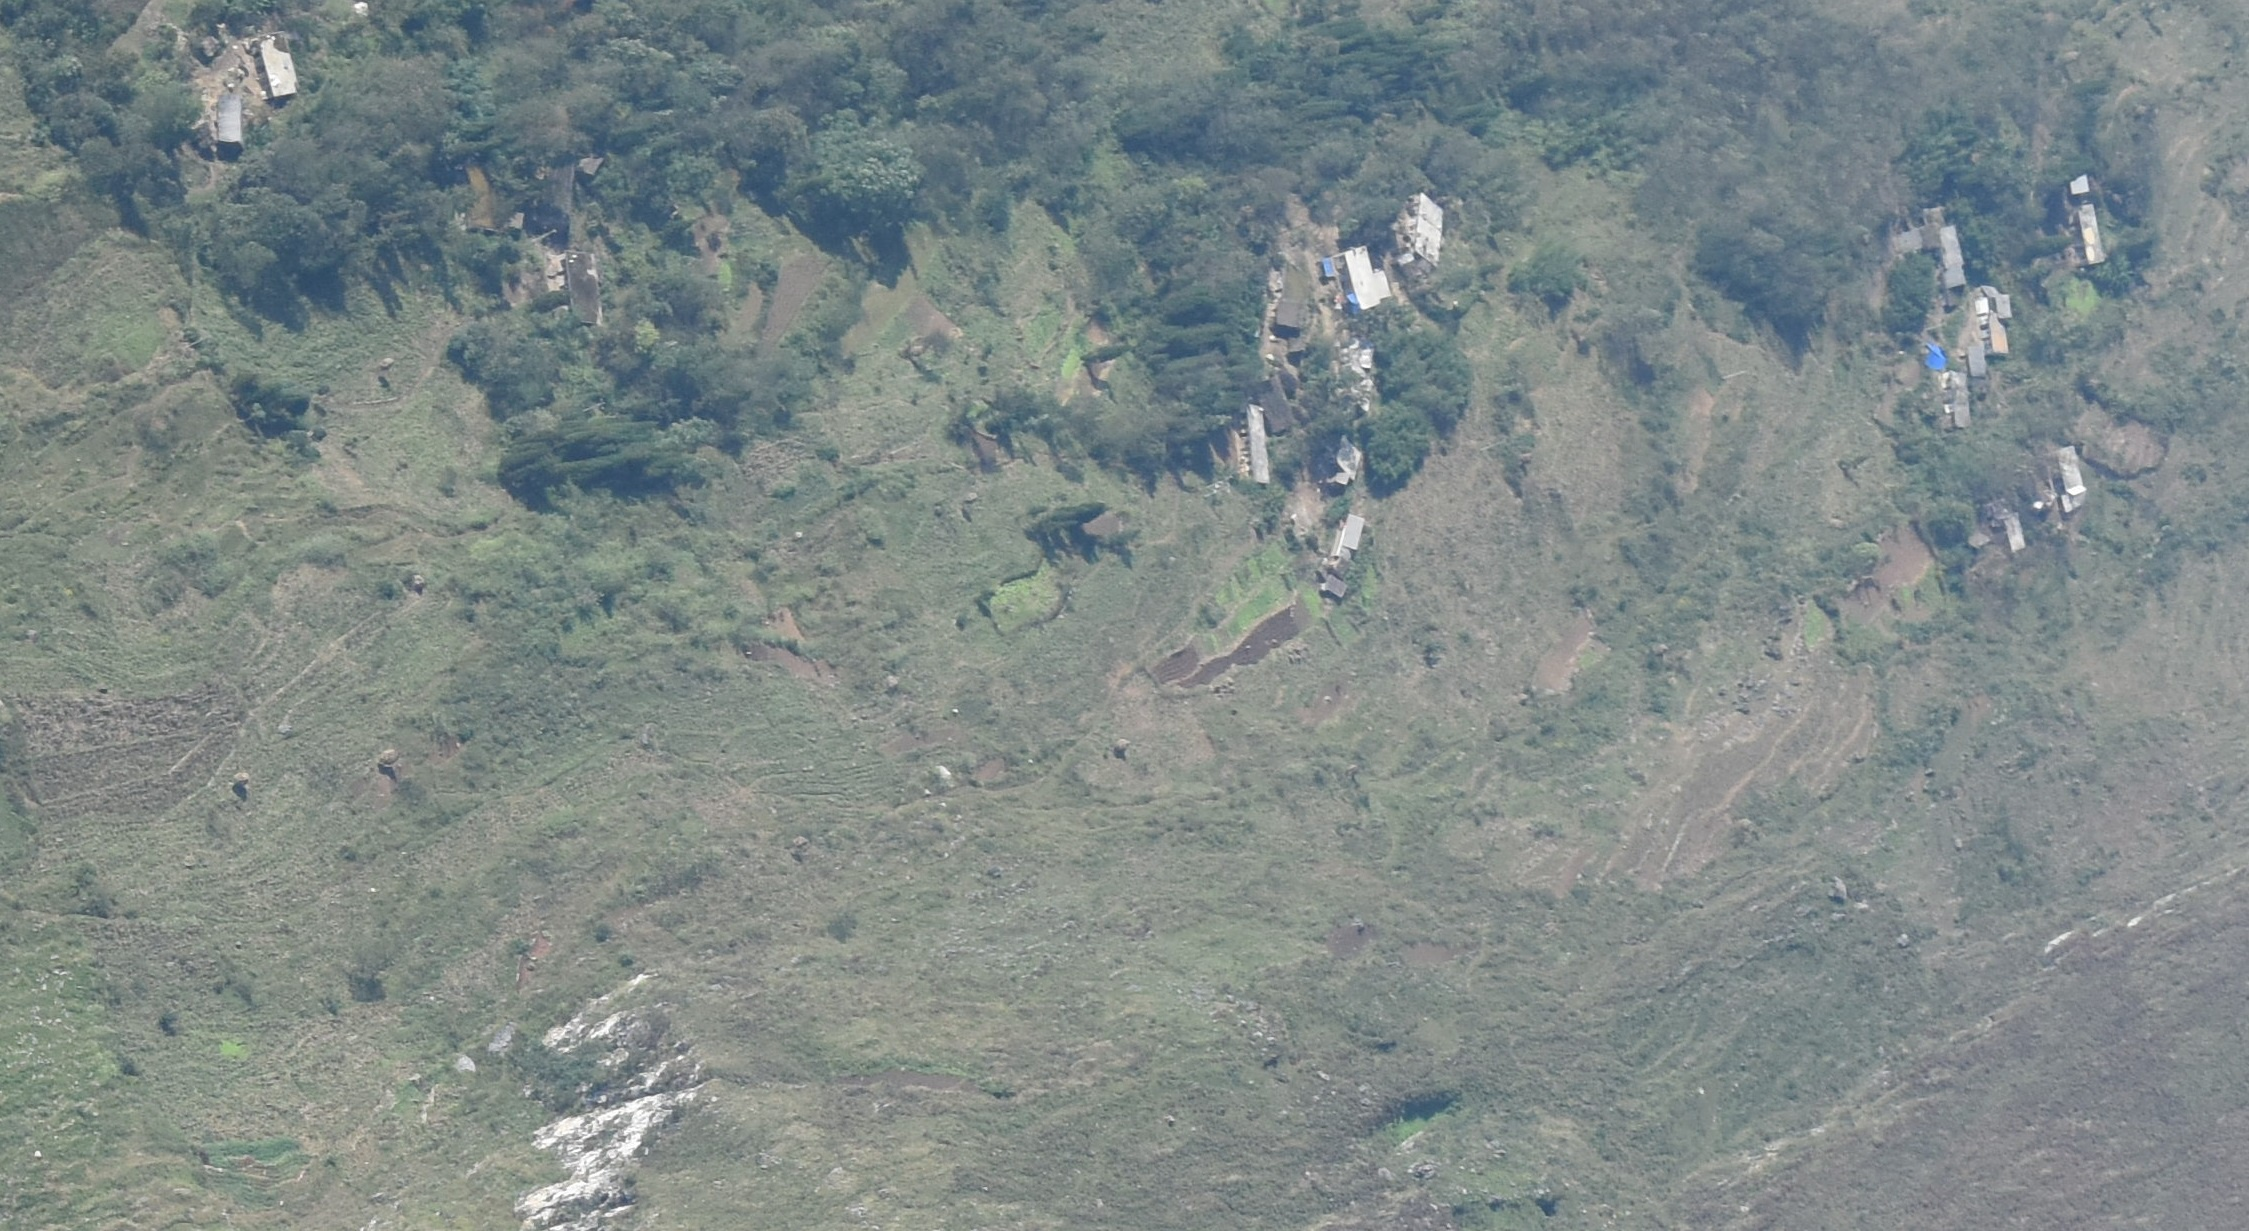building: (1337, 246, 1393, 309), (1402, 191, 1446, 268), (259, 32, 302, 97), (2046, 449, 2088, 514), (565, 252, 603, 324), (1250, 376, 1296, 434), (1335, 344, 1375, 409), (1938, 224, 1966, 305), (544, 155, 574, 223), (1247, 405, 1272, 485), (2075, 203, 2105, 265), (1328, 437, 1361, 490), (1946, 368, 1970, 428), (218, 94, 246, 146), (1972, 287, 2011, 320), (1923, 209, 1949, 249), (1891, 224, 1925, 252), (1343, 512, 1365, 550), (2000, 514, 2025, 549), (1278, 299, 1302, 330), (1985, 323, 2010, 355), (577, 152, 605, 174), (1328, 549, 1350, 575), (1969, 346, 1987, 374), (1325, 573, 1347, 596), (2069, 173, 2090, 196), (503, 211, 524, 230)
prefabricated-house: (1925, 341, 1947, 373), (1320, 261, 1334, 277)
